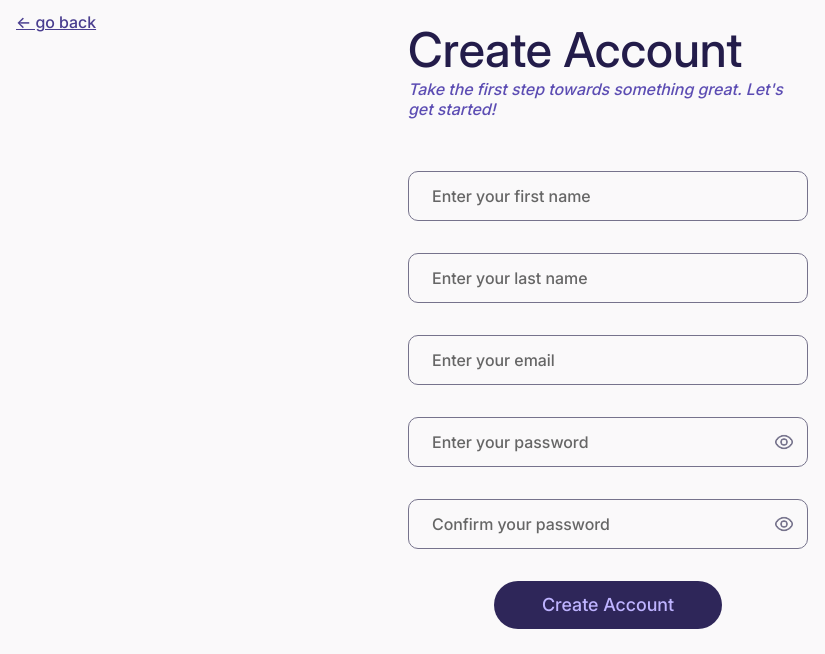
Test: Create Account Page › should show error when email is invalid
Type "invalid-email" into the field with test id "email_text_input" at x=608, y=360, box [408, 335, 808, 385]
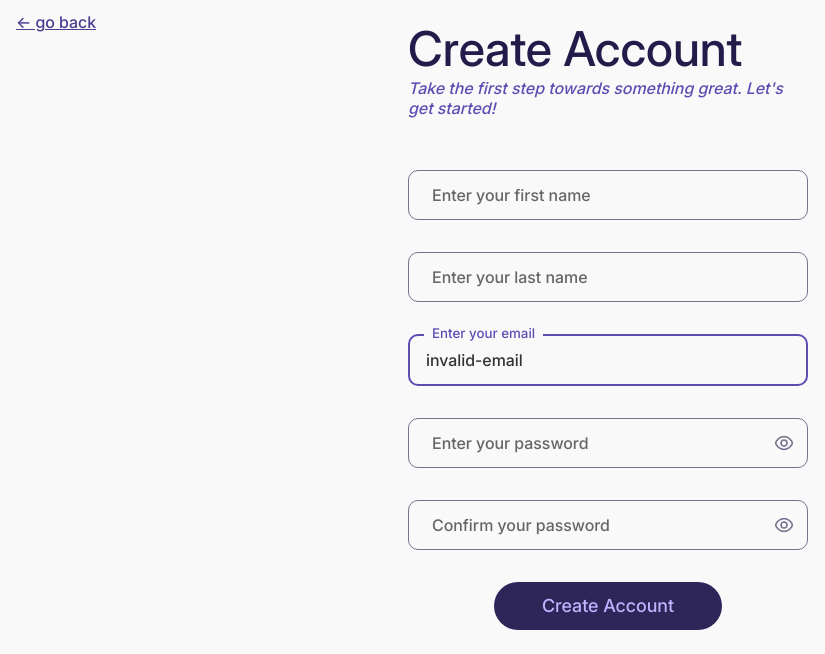
Click the button with test id "create_account_button" at x=608, y=606, box [494, 582, 722, 630]
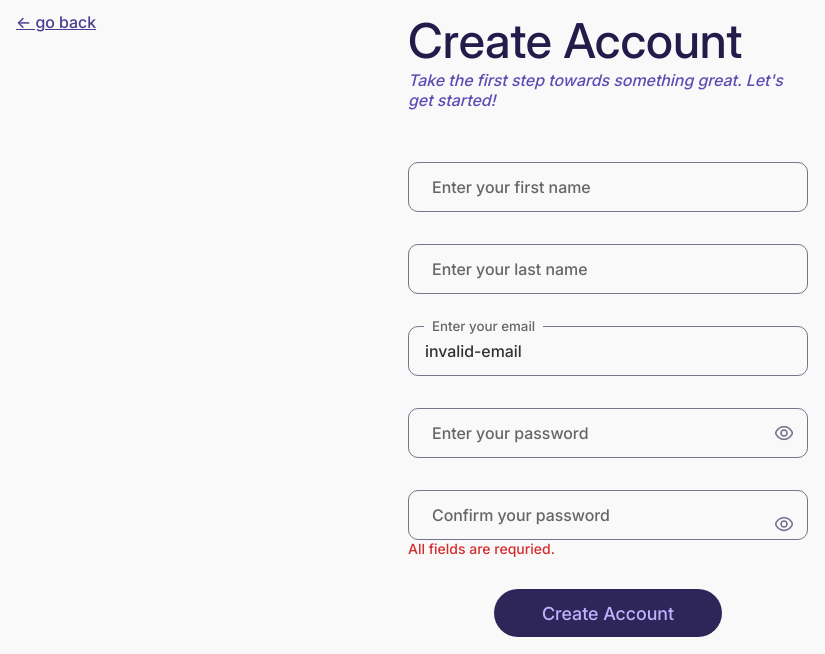
Expected: the element showing "All fields are requried." is shown, [408, 540, 555, 557]
